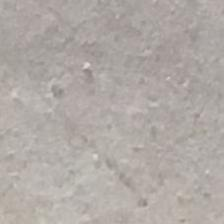Non_Crack: (33, 23, 198, 189)
